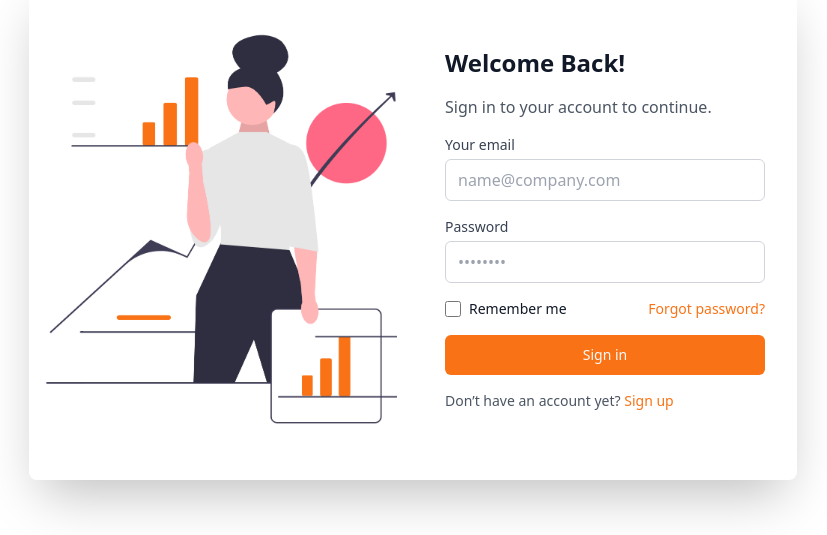
SignInForm Component › displays error message on login failure
In the field labelled "Your email": (605, 180) [445,159,765,201], type "test@example.com"
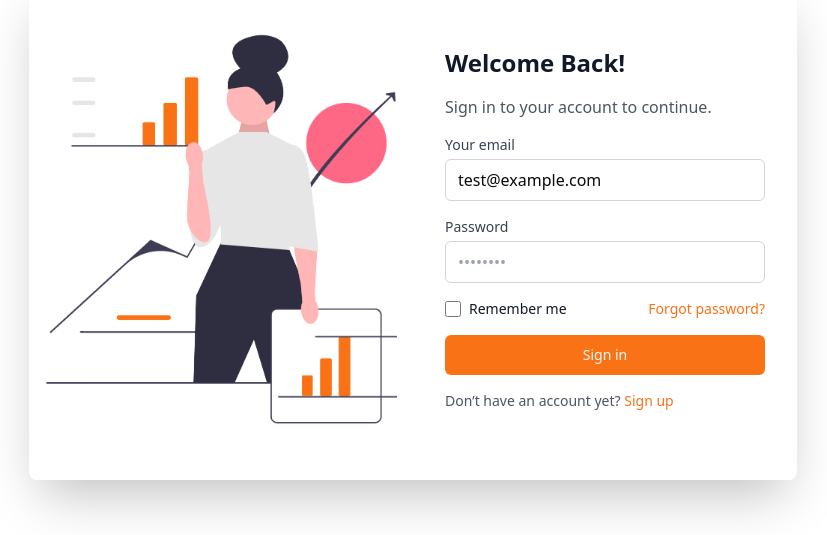
In the password field labelled "Password": (605, 262) [445,241,765,283], type "wrongpassword"
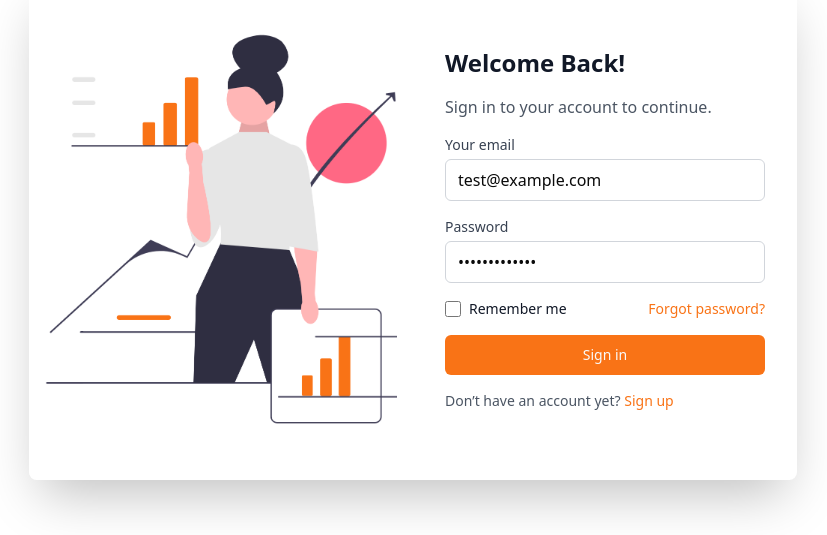
Click the button "Sign in": (605, 355) [445,335,765,375]
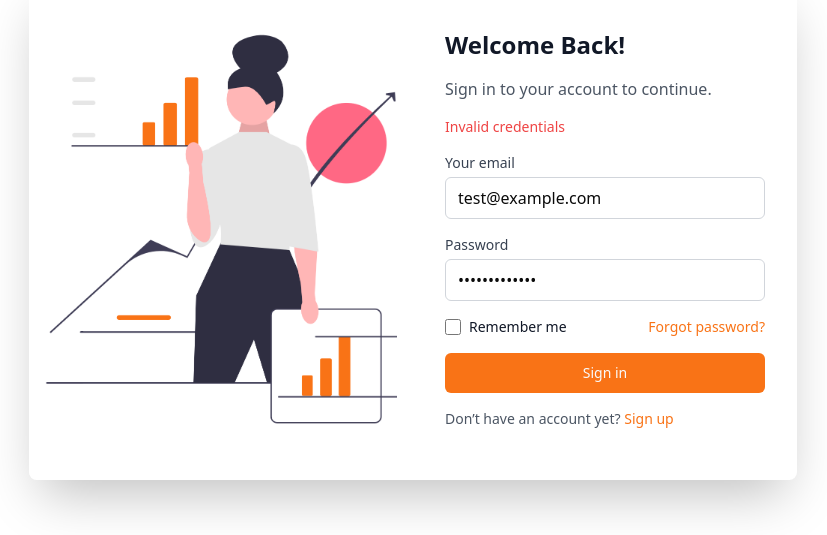
Expected: the text "Invalid credentials" is shown, [445,117,565,136]
